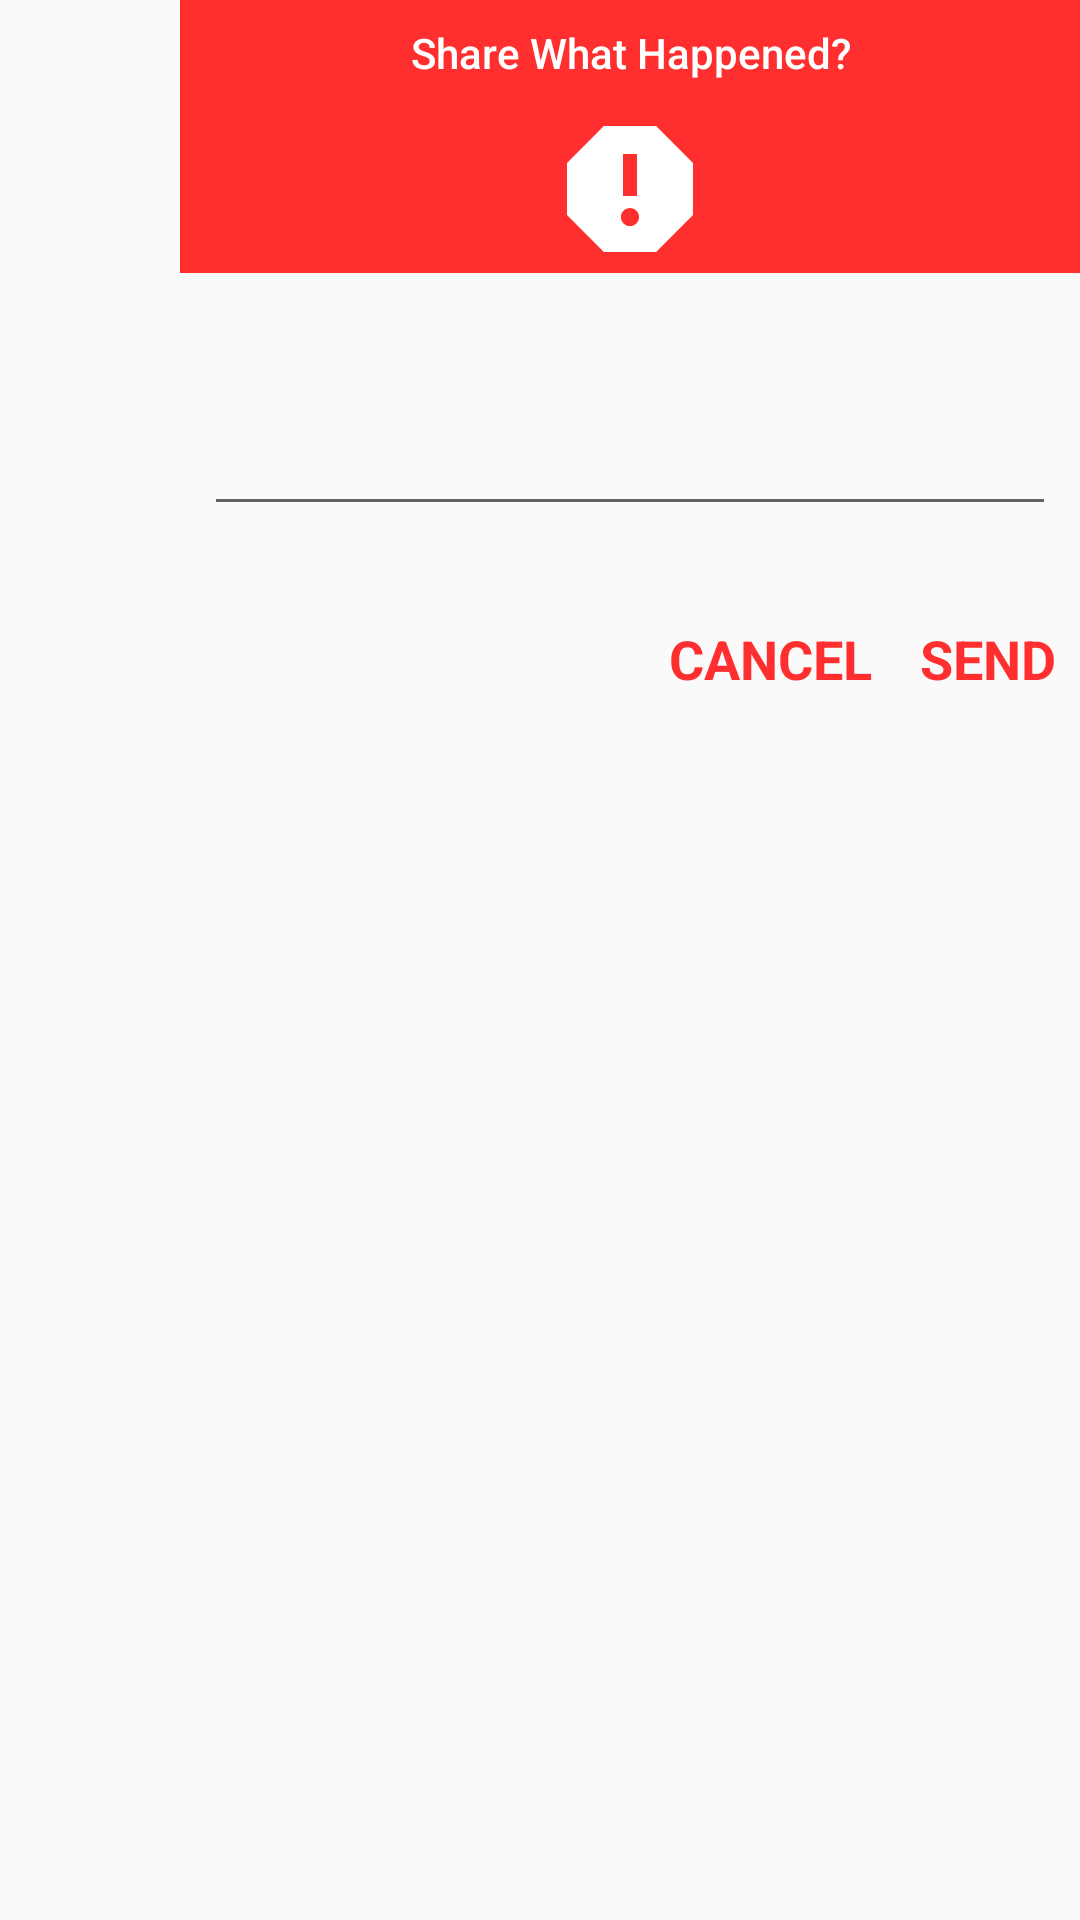

Locate icon controls on the screen. Image size 1080x1920, boxes as (x1, y1, x2, y2).
report: (567, 126, 693, 252)
